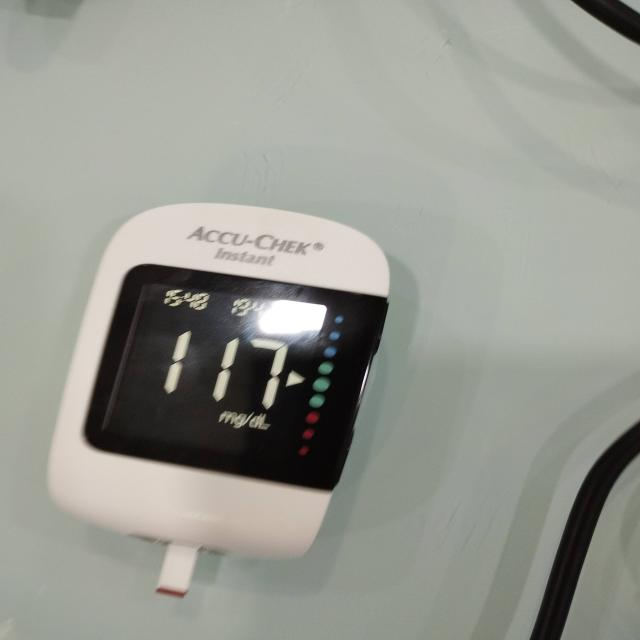gluco: (46, 205, 390, 596)
